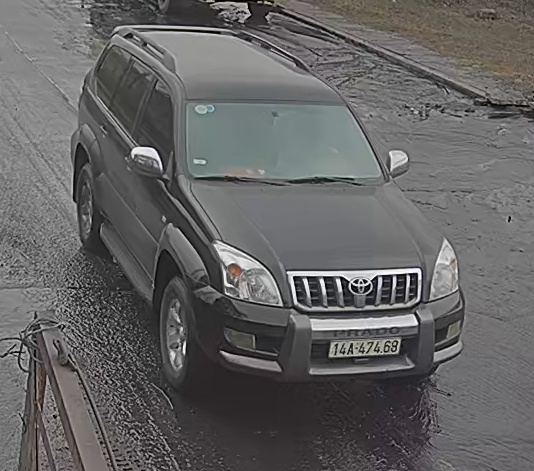vehicle plate: (326, 332, 404, 358)
